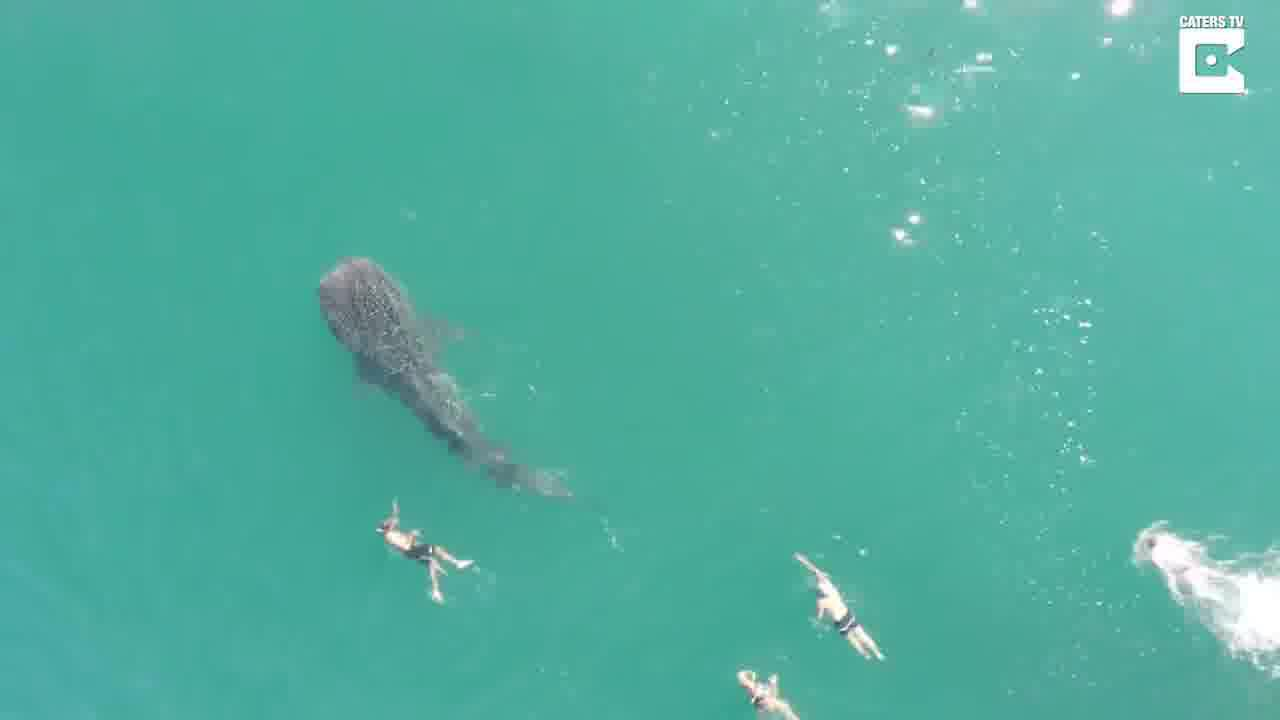human: (370, 495, 491, 610), (797, 562, 877, 654), (728, 662, 815, 720)
